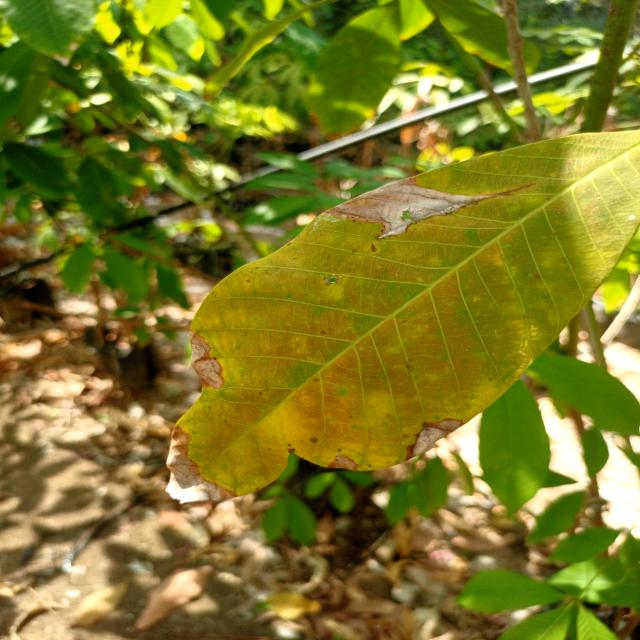Colletotrichum: (310, 437, 318, 443)
Leaf-Blight: (323, 175, 496, 239), (166, 426, 240, 504), (188, 329, 224, 389), (412, 425, 452, 456), (334, 455, 357, 471)
